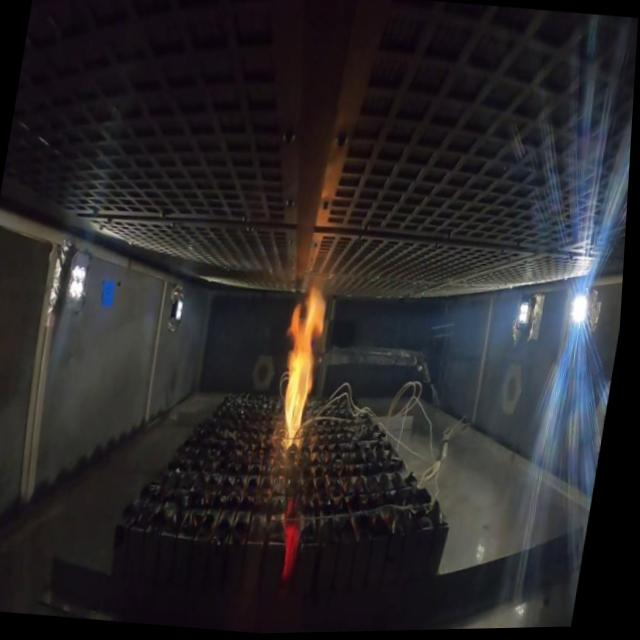fire: (274, 279, 339, 447)
